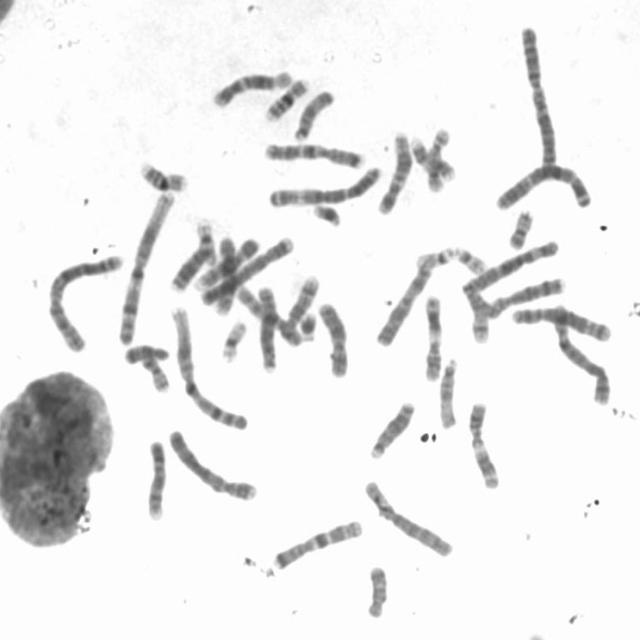A1: (168, 308, 250, 431), (116, 189, 174, 346)
A2: (48, 253, 124, 353), (518, 25, 557, 170)
A3: (491, 164, 594, 214), (268, 165, 381, 208)
B4: (196, 234, 294, 306), (168, 428, 262, 503)
B5: (552, 303, 613, 406), (511, 307, 612, 344)
C10: (232, 282, 302, 349), (212, 230, 238, 318)
C11: (468, 402, 500, 490), (422, 292, 442, 384)
C12: (376, 127, 414, 217), (213, 68, 292, 110)
C6: (364, 479, 456, 558), (469, 239, 562, 291)
C7: (272, 518, 361, 573), (264, 142, 366, 170)
C8: (486, 277, 567, 319), (258, 282, 278, 373)
C9: (188, 237, 261, 292), (145, 438, 167, 524)
D13: (368, 400, 418, 461), (168, 242, 216, 297)
D14: (285, 272, 321, 331), (460, 280, 491, 347)
D15: (292, 87, 335, 141), (438, 357, 458, 432)
E16: (265, 76, 310, 124), (140, 160, 190, 192)
E17: (408, 134, 458, 184), (427, 124, 452, 194)
E18: (366, 564, 389, 620), (123, 344, 170, 370)
F19: (219, 317, 248, 363), (193, 216, 219, 265)
F20: (506, 206, 536, 251), (140, 352, 172, 394)
G21: (308, 202, 344, 232), (299, 311, 318, 344)
G22: (414, 244, 453, 272), (453, 244, 487, 273)
X: (373, 264, 433, 349), (318, 300, 350, 382)
